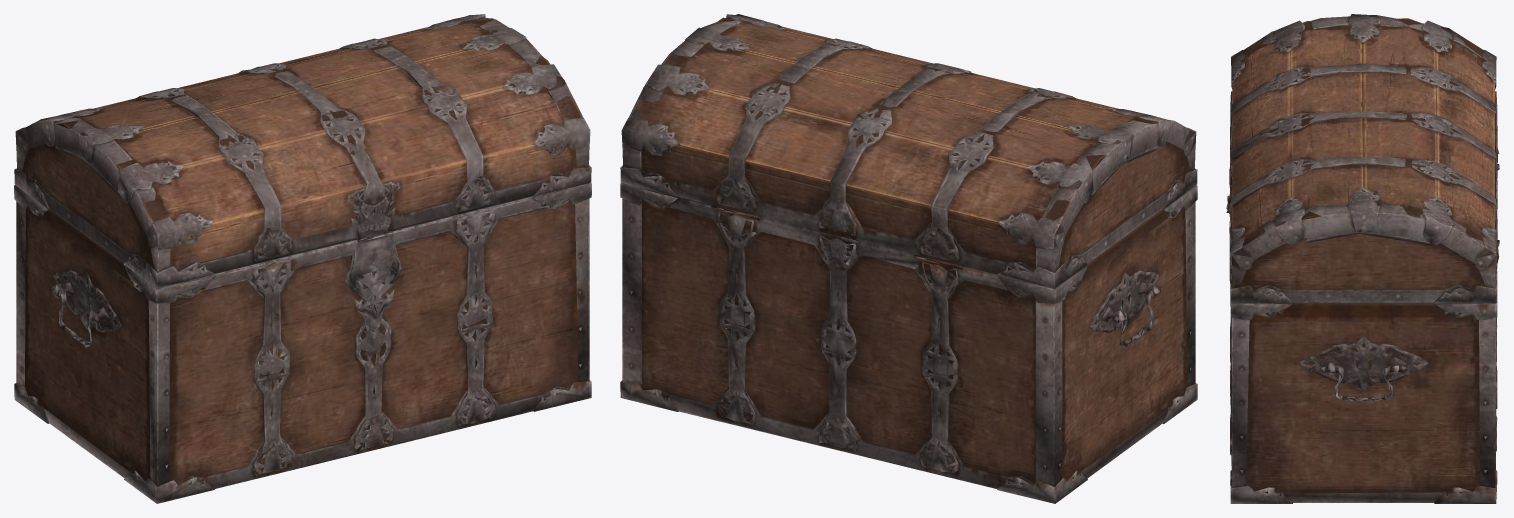
Rendered from cofre_mina.glb.
3 views of the same model, side by side, from view 1: azimuth 30°, elevation 25°; view 2: azimuth 150°, elevation 25°; view 3: azimuth 270°, elevation 25° (orthographic). The views are drawn at different scales.
Parts seen in each view (by area): view 1: CofreBase, Tapa; view 2: CofreBase, Tapa; view 3: Tapa, CofreBase.
Part boxes in pixels (x1=…): CofreBase: x1=14, y1=183, x2=591, y2=503; Tapa: x1=14, y1=14, x2=591, y2=288; CofreBase: x1=620, y1=183, x2=1197, y2=503; Tapa: x1=620, y1=14, x2=1197, y2=288; Tapa: x1=1226, y1=14, x2=1499, y2=303; CofreBase: x1=1226, y1=132, x2=1498, y2=503.
Bounding box in the file's own units: 0.9579 × 0.6175 × 0.5236.
1 material, 1 textured.
